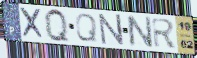N: (125, 15, 155, 50), (97, 13, 126, 46)
Q: (43, 7, 72, 45), (75, 13, 99, 43)
R: (150, 17, 179, 50)
X: (18, 6, 46, 41)
